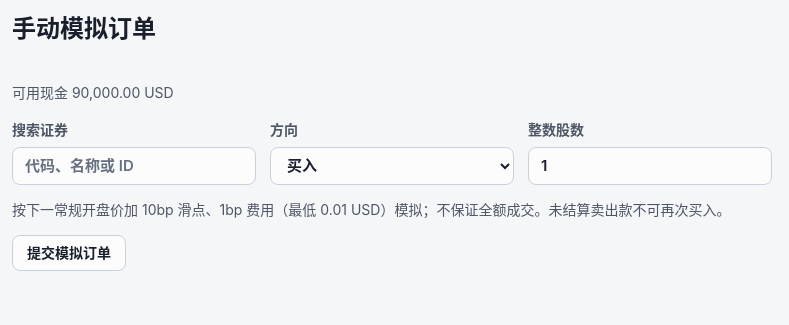
Scenario: blocks submit until an instrument is selected
Expected: the field labelled "搜索证券" is shown, [12,147,256,185]
Replace the text in the field labelled "整数股数" with "10" at coordinates (650, 166), box [528,147,772,185]
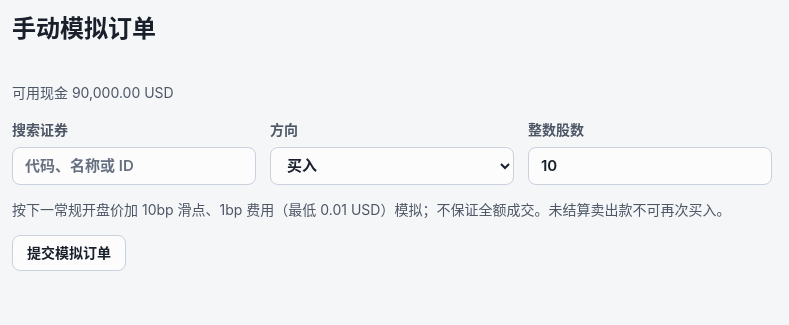
Click the button "提交模拟订单" at coordinates (69, 253), box [12,235,126,271]
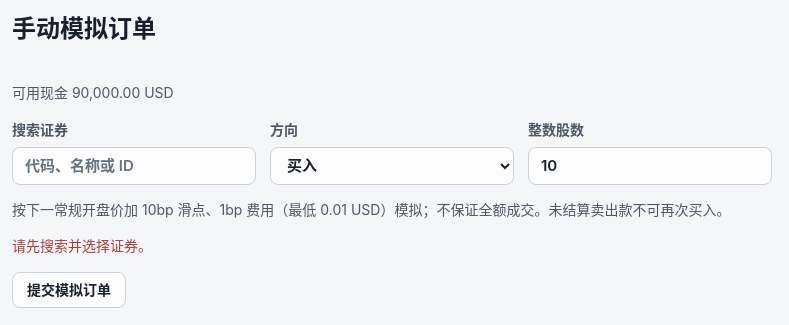
Now the message shows "选择证券", box [12,237,152,254]
